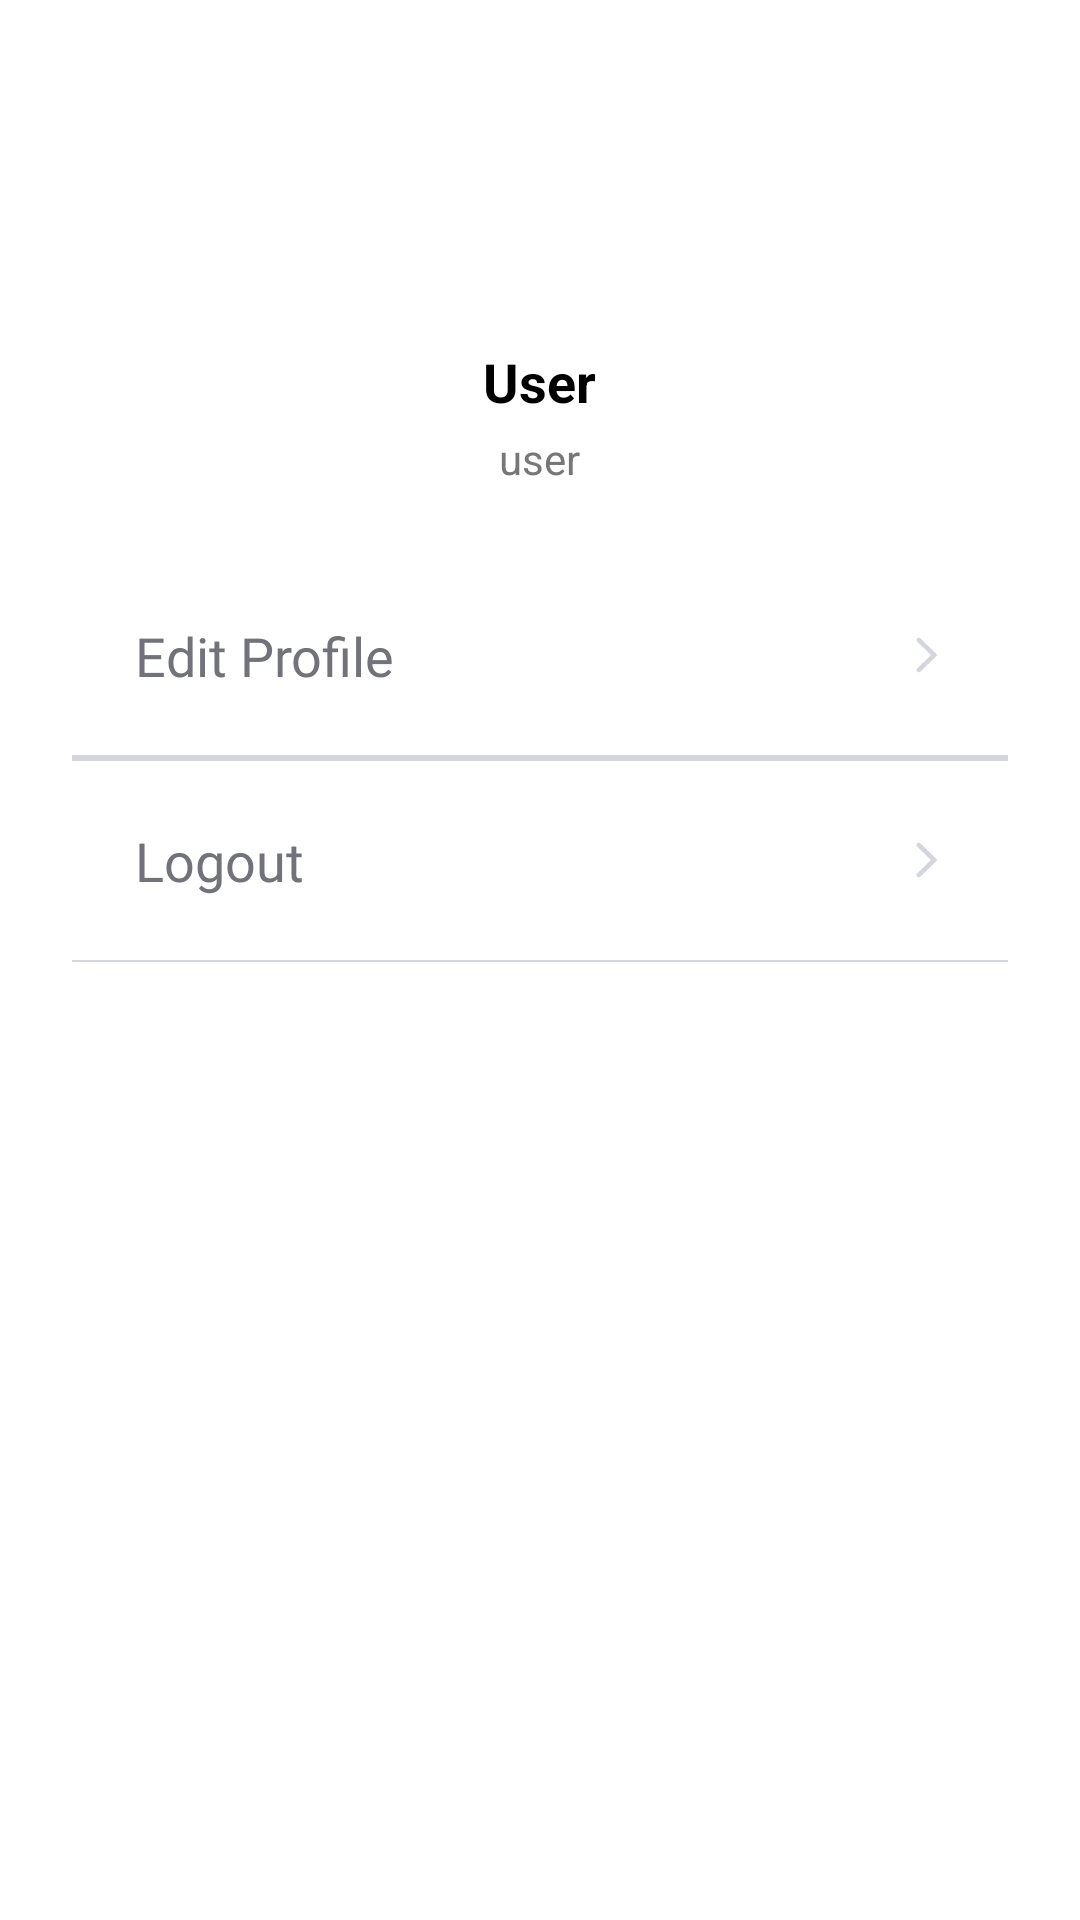

Where icons sit on this 1080 × 1920 app screen, as (x1, y1, x2, y2):
arrow forward: (917, 638, 937, 672), (917, 843, 937, 877)
